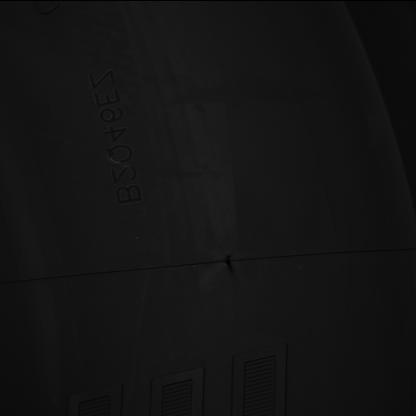ocr: (86, 68, 145, 204)
